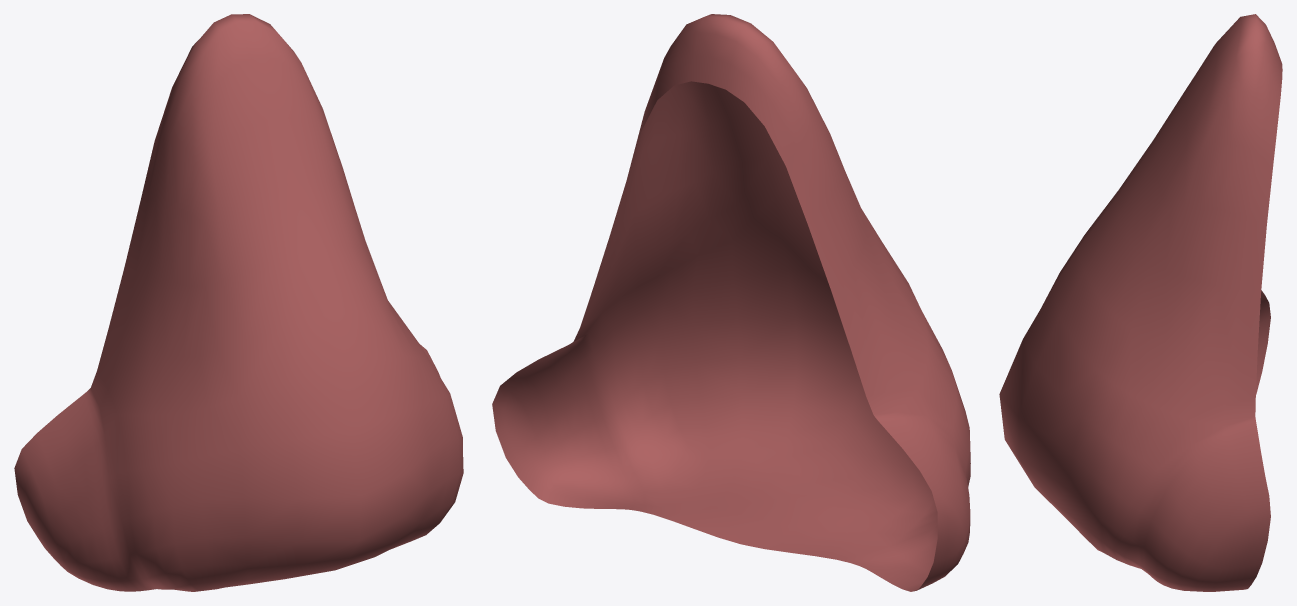
File: Nose05.fbx
3 renders of one model, left to right at view 1: azimuth 30°, elevation 25°; view 2: azimuth 150°, elevation 25°; view 3: azimuth 270°, elevation 25°, orthographic. The views are drawn at different scales.
Parts seen in each view (by area): view 1: Nose6; view 2: Nose6; view 3: Nose6.
Boxes of the visible parts, left/top/right/bottom form: Nose6: left=14, top=14, right=463, bottom=591; Nose6: left=492, top=14, right=970, bottom=591; Nose6: left=999, top=14, right=1282, bottom=591.
Size of the model in its own units: 2.41 by 2.81 by 1.45.
